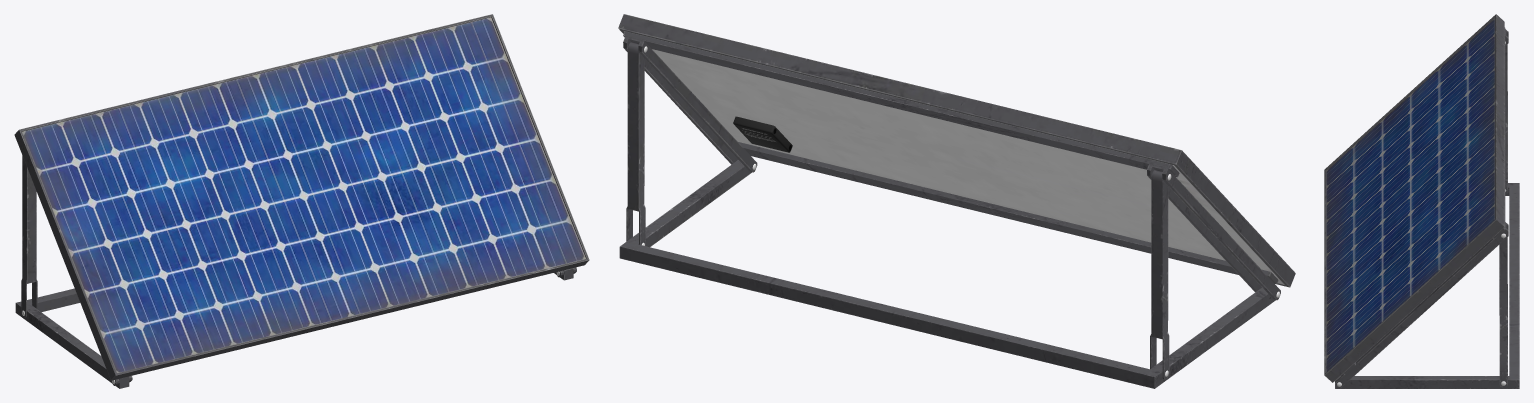
Rendered from solar_panel-transformed.glb.
The picture shows the model from 3 angles, left to right: view 1: azimuth 30°, elevation 25°; view 2: azimuth 150°, elevation 25°; view 3: azimuth 270°, elevation 25°; orthographic projection. The views are drawn at different scales.
Parts seen in each view (by area): view 1: SolarPanel_SolarPanel_0; view 2: SolarPanel_SolarPanel_0; view 3: SolarPanel_SolarPanel_0.
Boxes of the visible parts, left/top/right/bottom form: SolarPanel_SolarPanel_0: left=14, top=14, right=589, bottom=388; SolarPanel_SolarPanel_0: left=618, top=14, right=1295, bottom=388; SolarPanel_SolarPanel_0: left=1324, top=14, right=1519, bottom=388.
Bounding box in the file's own units: 165 × 65.13 × 66.43.
Materials: 1 (1 with a texture image).
